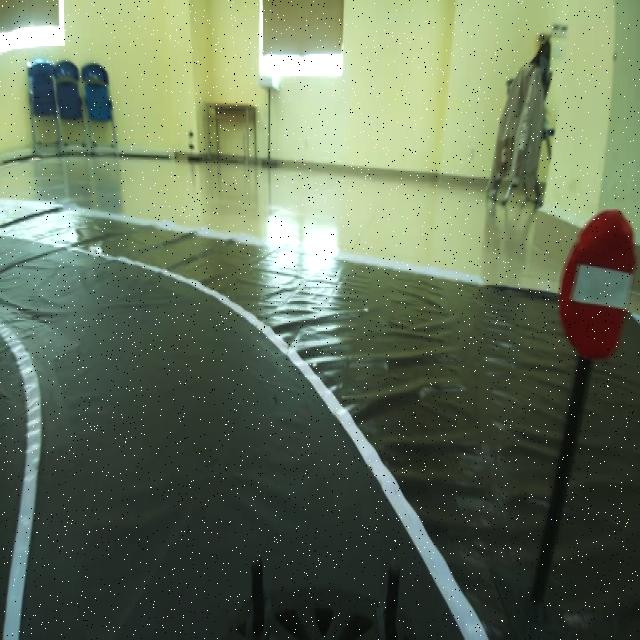no_entry: (557, 199, 635, 359)
